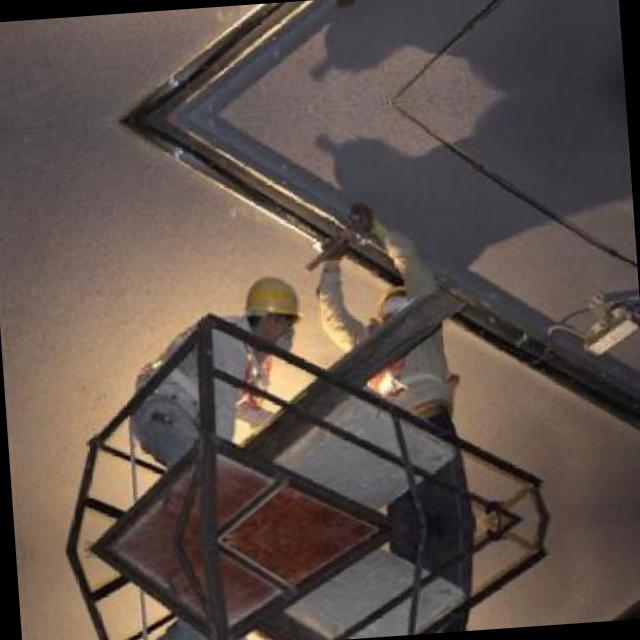helmet: (236, 269, 304, 350)
